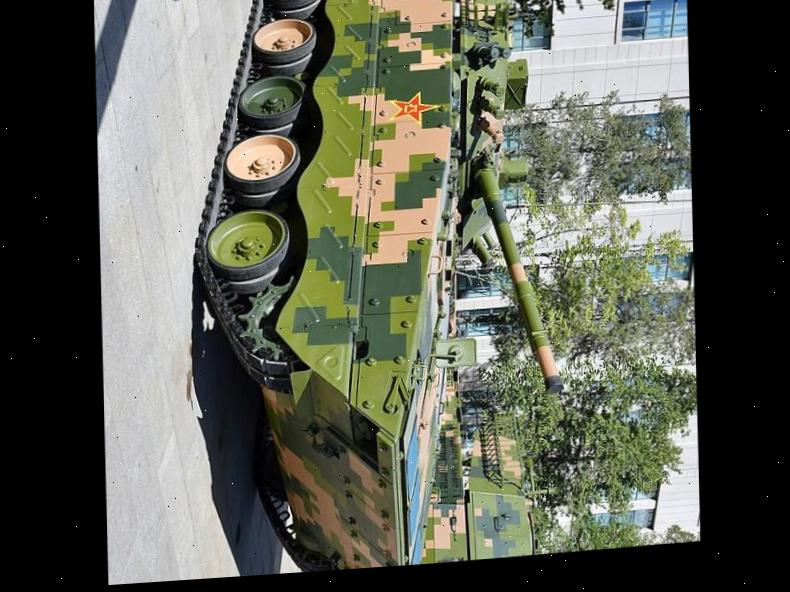tank: (189, 0, 569, 579), (282, 358, 542, 573)
